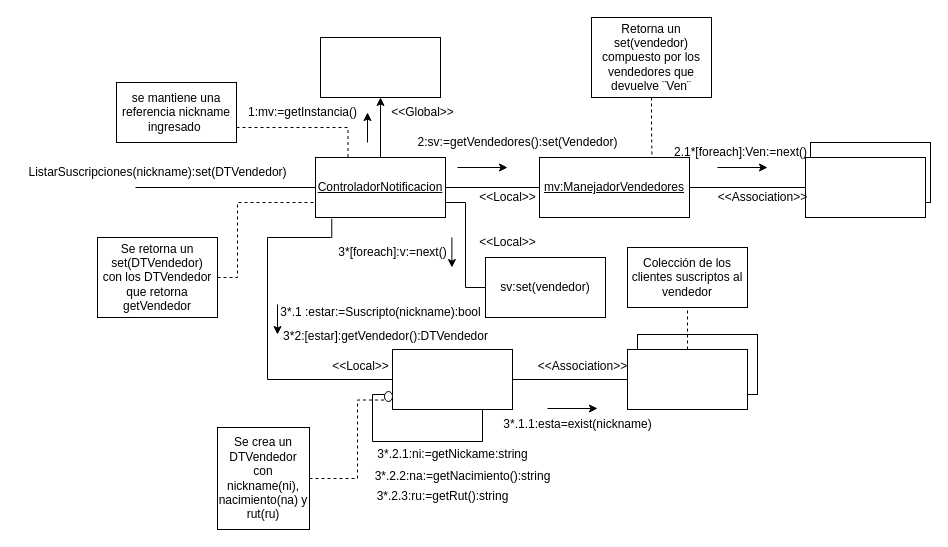
The diagram is 948 pixels wide and 547 high, and some of its shapes have lost their labels. Here are the shapes that lost their labels. From the top down, the centre of each, then its label:
At point (380, 67): "ManejadorVendedores".
At point (865, 187): "Vendedores".
At point (452, 379): "v:Vendedor".
At point (687, 379): "Cliente".
